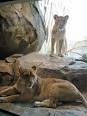lion: (5, 66, 87, 108), (50, 11, 67, 56)
